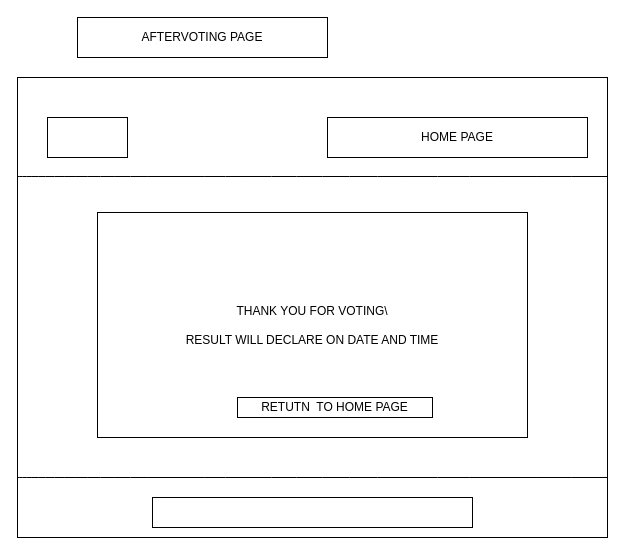
Image size: 626x555. Some labels were removed from this diagram. Here are the shapes that lost their labels. From the top down, the centre of each, then its label:
the point at 87,137: LOGO
the point at 312,512: Footer HELPLINE NUMBER | EMAILID|
